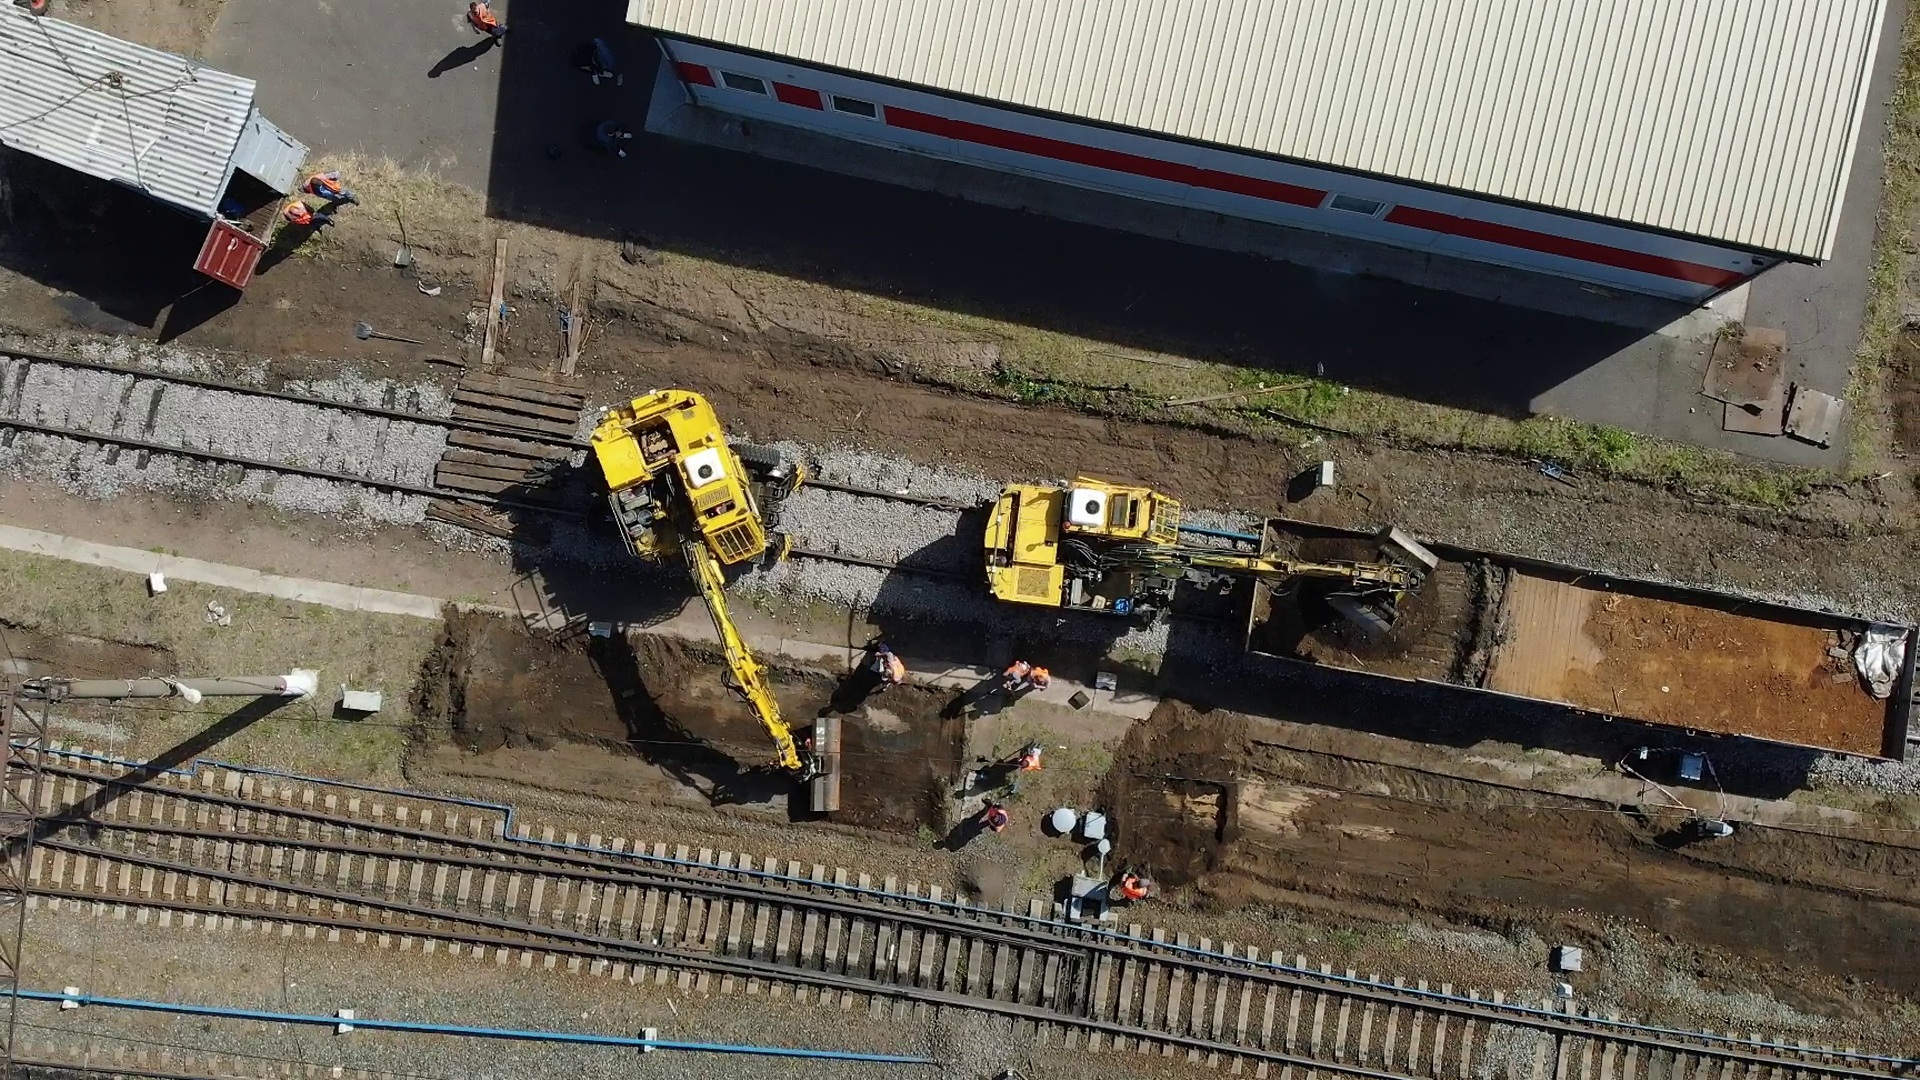kjtv: (584, 385, 787, 669), (980, 458, 1269, 625)
